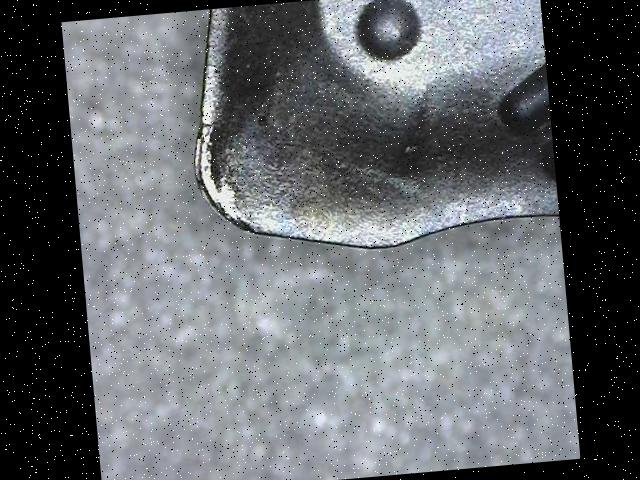normal: (263, 203, 558, 250), (201, 7, 232, 88)
wear: (192, 89, 265, 235)
